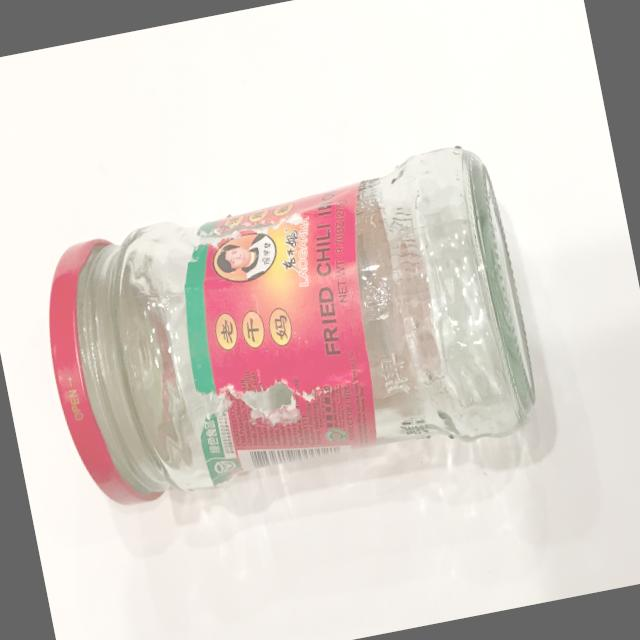Glass: (8, 118, 566, 550)
